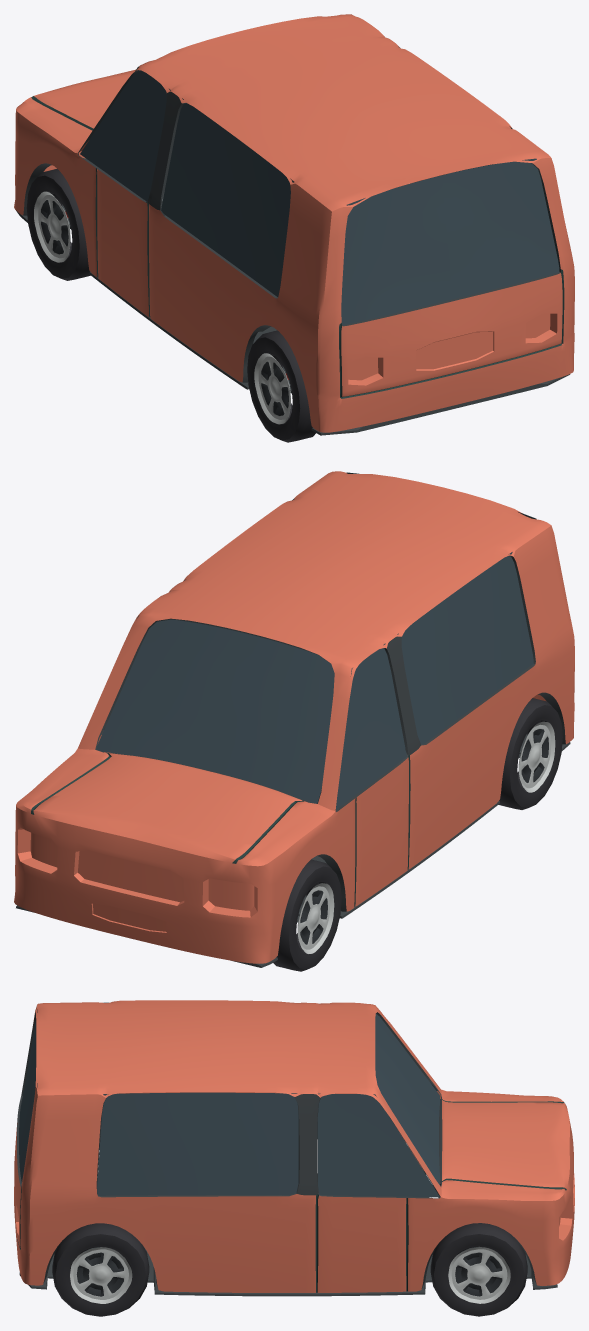
The model's file is forge_closed_van_lod2.fbx.
The picture shows the model from 3 angles, top to bottom: view 1: azimuth 30°, elevation 25°; view 2: azimuth 150°, elevation 25°; view 3: azimuth 270°, elevation 25°; orthographic projection. The views are drawn at different scales.
Parts seen in each view (by area): view 1: Body, Wheel_RL_Mesh, Wheel_FL_Mesh; view 2: Body, Wheel_FL_Mesh, Wheel_RL_Mesh; view 3: Body, Wheel_RR_Mesh, Wheel_FR_Mesh.
Boxes of the visible parts, x1,y1,x2,y2 form: Body: [14, 14, 574, 435]; Wheel_RL_Mesh: [247, 330, 315, 442]; Wheel_FL_Mesh: [26, 169, 90, 280]; Body: [14, 471, 574, 967]; Wheel_FL_Mesh: [273, 859, 341, 971]; Wheel_RL_Mesh: [498, 698, 562, 809]; Body: [14, 1000, 574, 1296]; Wheel_RR_Mesh: [52, 1223, 149, 1316]; Wheel_FR_Mesh: [430, 1223, 527, 1316].
Size of the model in its own units: 158 by 151 by 338.
